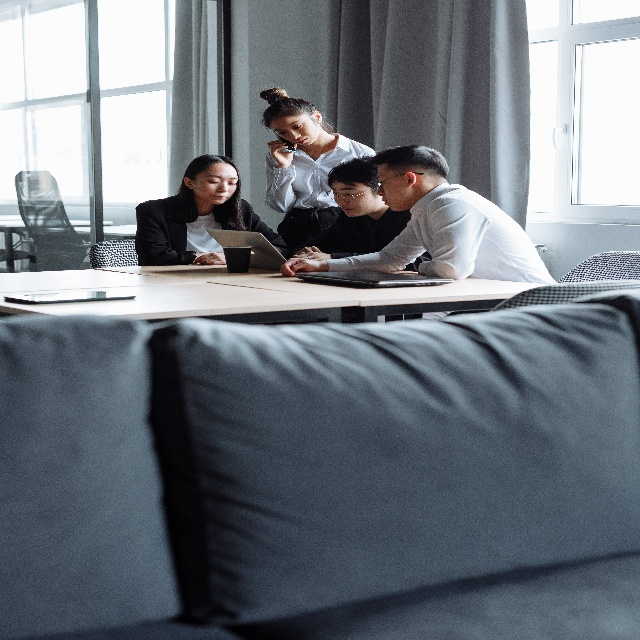Gafas: (377, 171, 424, 191), (326, 186, 379, 203)
Sin_guantes: (267, 137, 297, 170), (280, 255, 322, 278), (194, 250, 226, 266), (297, 250, 327, 261), (293, 246, 322, 256)
